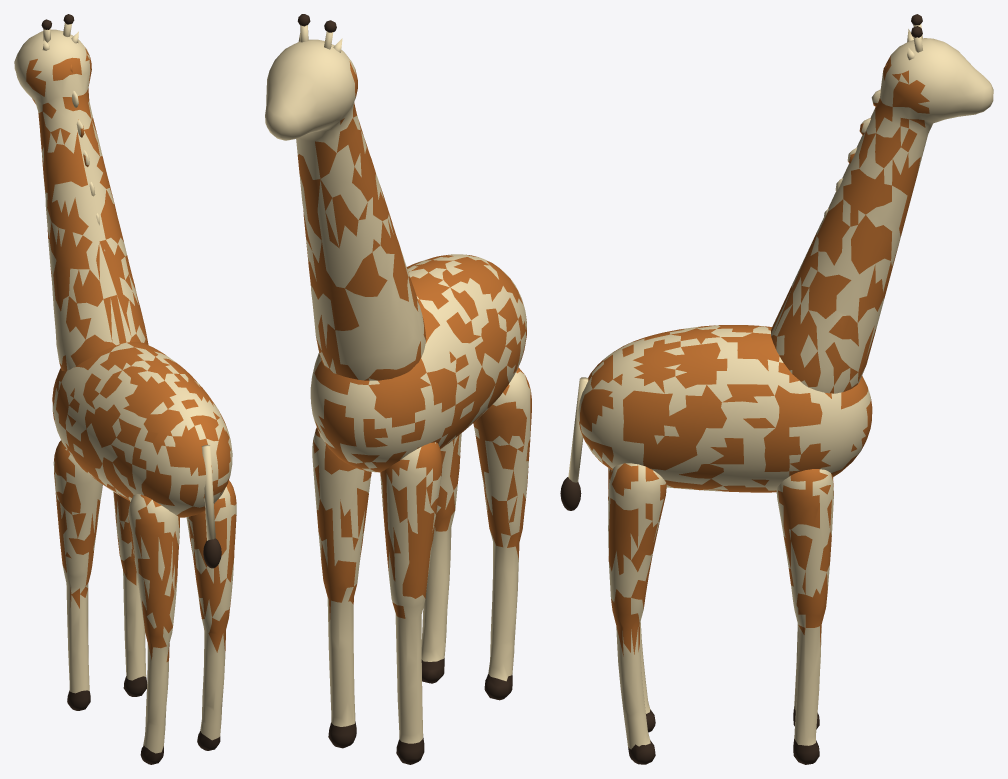
Rendered from animal_giraffe.glb.
3 renders of one model, left to right at view 1: azimuth 30°, elevation 25°; view 2: azimuth 150°, elevation 25°; view 3: azimuth 270°, elevation 25°, orthographic. The views are drawn at different scales.
Visible parts, largest first — view 1: Head, Body, LegBL, LegFL, LegBR, LegFR, Tail; view 2: Head, Body, LegFL, LegBL, LegFR, LegBR; view 3: Body, Head, LegBR, LegFR, Tail.
Part boxes in pixels (x1,y1,x2,y2): Head: (14,14,148,371); Body: (52,342,232,517); LegBL: (128,494,179,764); LegFL: (53,440,102,710); LegBR: (186,480,236,750); LegFR: (113,492,146,696); Tail: (201,444,221,568); Head: (265,14,426,380); Body: (310,254,526,472); LegFL: (380,442,442,764); LegBL: (473,367,531,700); LegFR: (312,427,371,748); LegBR: (421,433,461,683); Body: (578,325,872,492); Head: (771,14,993,393); LegBR: (608,463,666,764); LegFR: (776,469,833,764); Tail: (560,377,588,510).
Size of the model in its own units: 0.9079 by 5.14 by 2.77.
